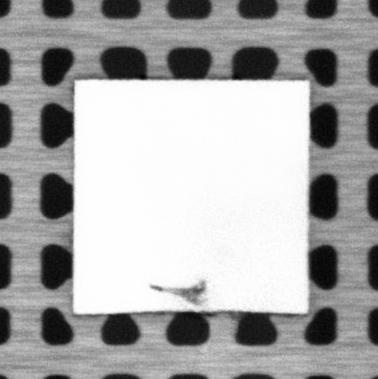DIE_INK: (149, 277, 209, 306)
